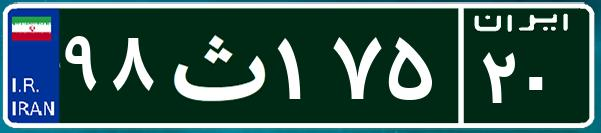0: (525, 38, 570, 115)
1: (273, 28, 330, 110)
2: (475, 38, 525, 113)
5: (385, 28, 445, 110)
7: (330, 28, 385, 110)
8: (110, 28, 158, 105)
9: (57, 26, 110, 107)
ث: (158, 15, 273, 115)
